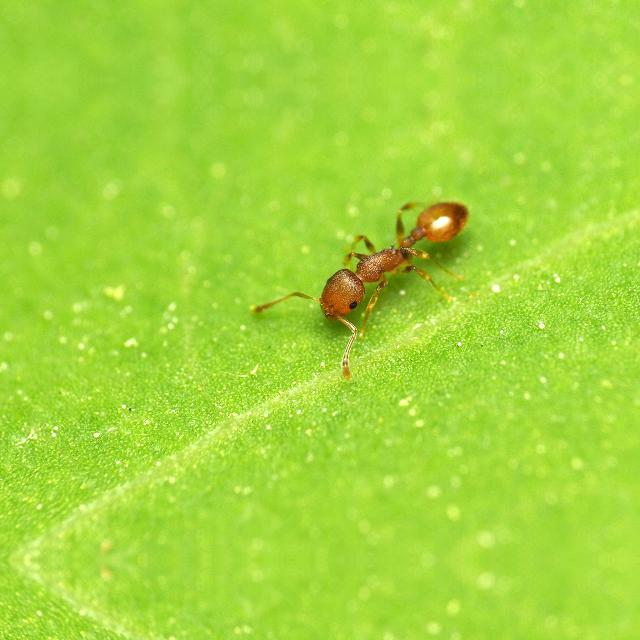Temnothorax: (271, 182, 497, 348)
